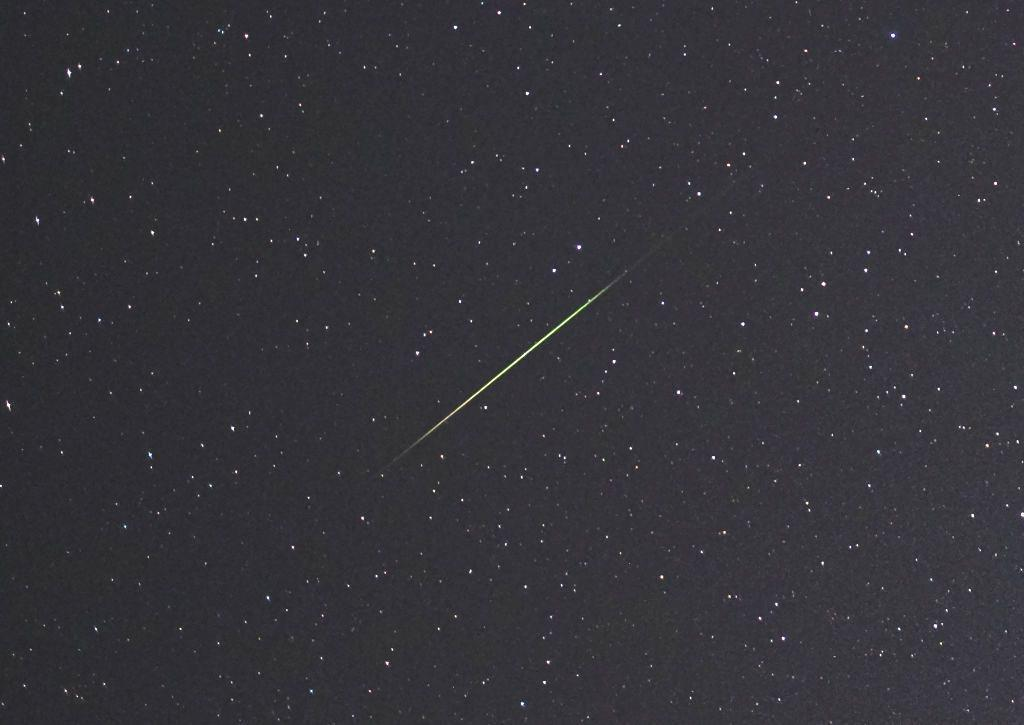meteorite: (339, 284, 611, 495)
